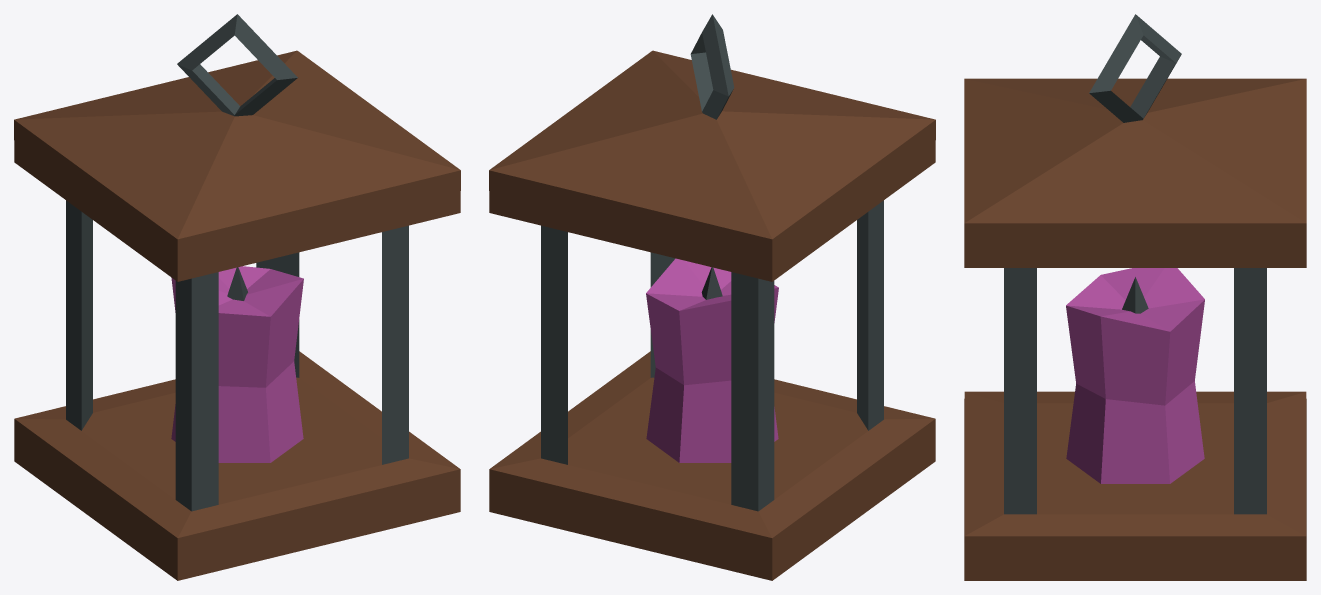
File: Lamp_5_Purple.fbx
3 views of the same model, side by side, from view 1: azimuth 30°, elevation 25°; view 2: azimuth 150°, elevation 25°; view 3: azimuth 270°, elevation 25° (orthographic). The views are drawn at different scales.
Visible parts, largest first — view 1: Lamp_5_Purple; view 2: Lamp_5_Purple; view 3: Lamp_5_Purple.
Boxes of the visible parts, <box> form: Lamp_5_Purple: <box>14,14,460,580</box>; Lamp_5_Purple: <box>489,14,935,580</box>; Lamp_5_Purple: <box>964,14,1306,580</box>.
Bounding box in the file's own units: 26.04 × 41.5 × 26.04.
